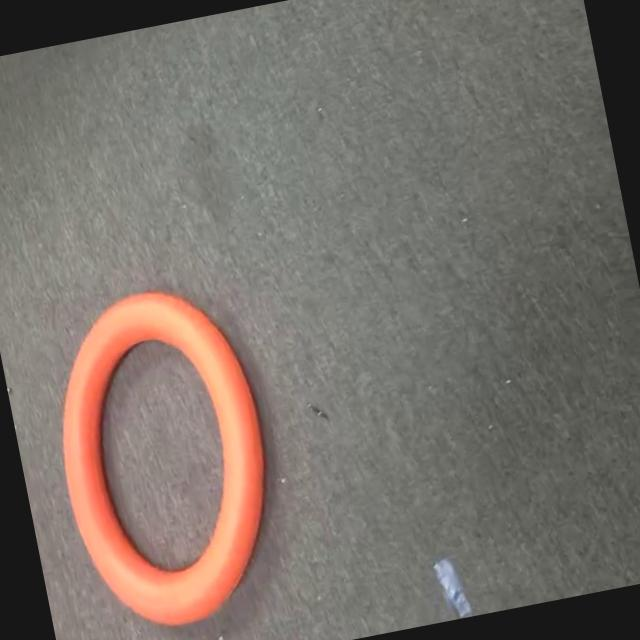note: (16, 267, 307, 640)
